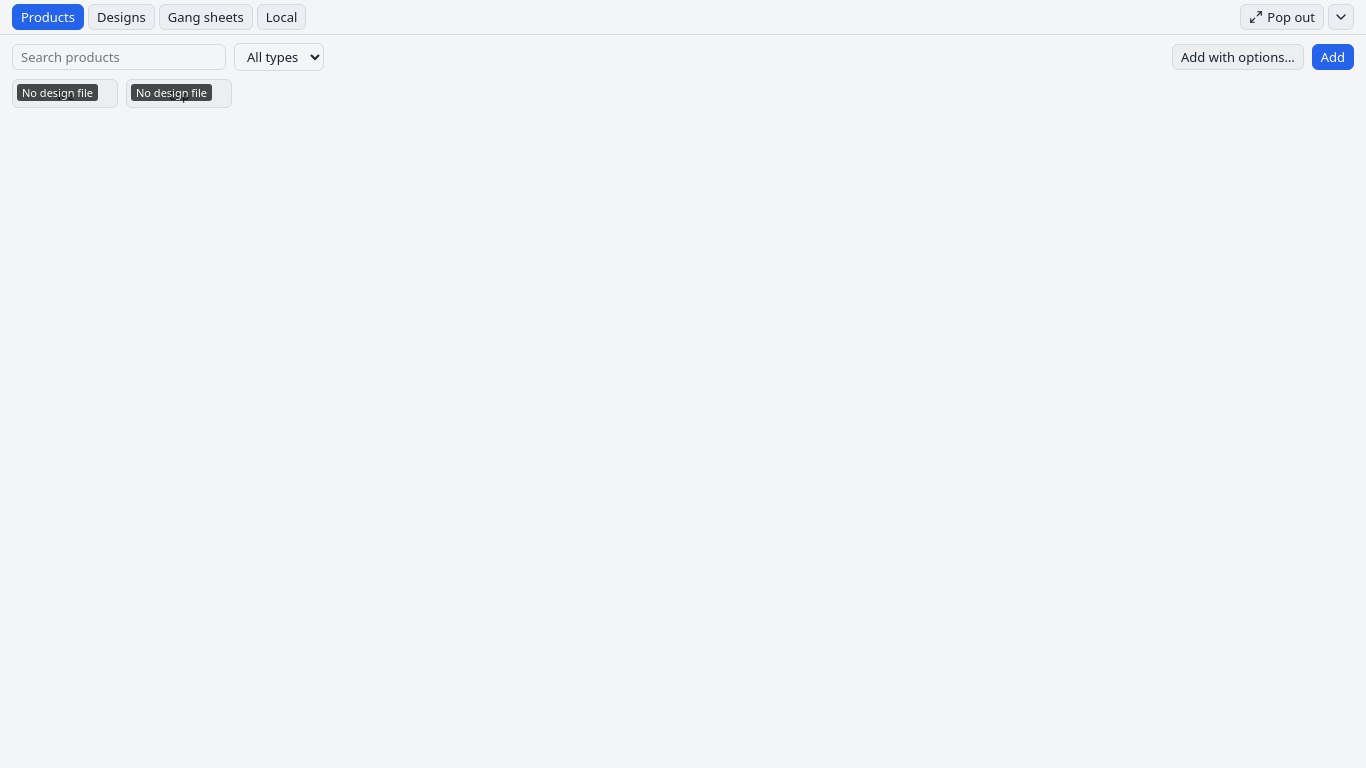
Test: LibraryBrowser › header checkbox selects every row on the page (list view)
Step 1. Click the button "Pop out" → [1282, 17], box [1240, 4, 1324, 30]
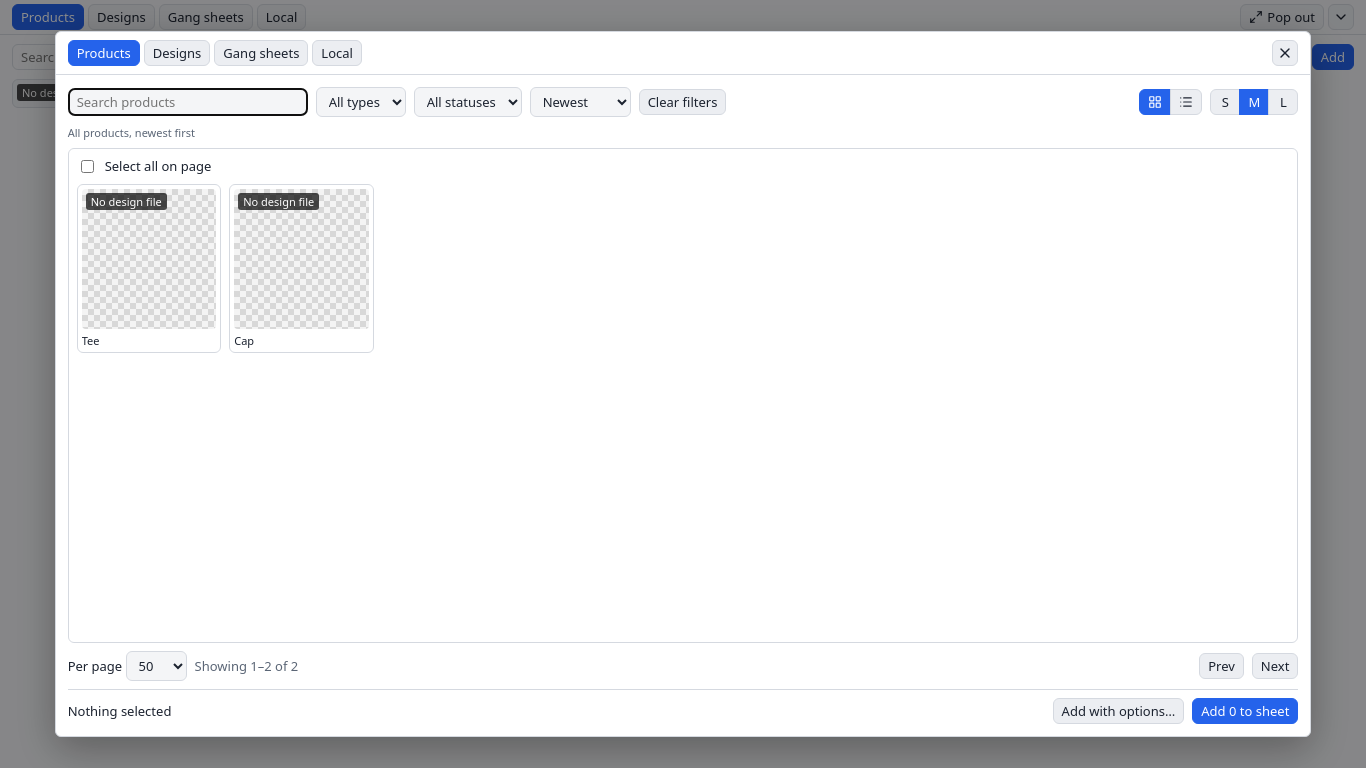
Step 2. Click the button named "List view" → [1186, 102], box [1170, 89, 1202, 115]
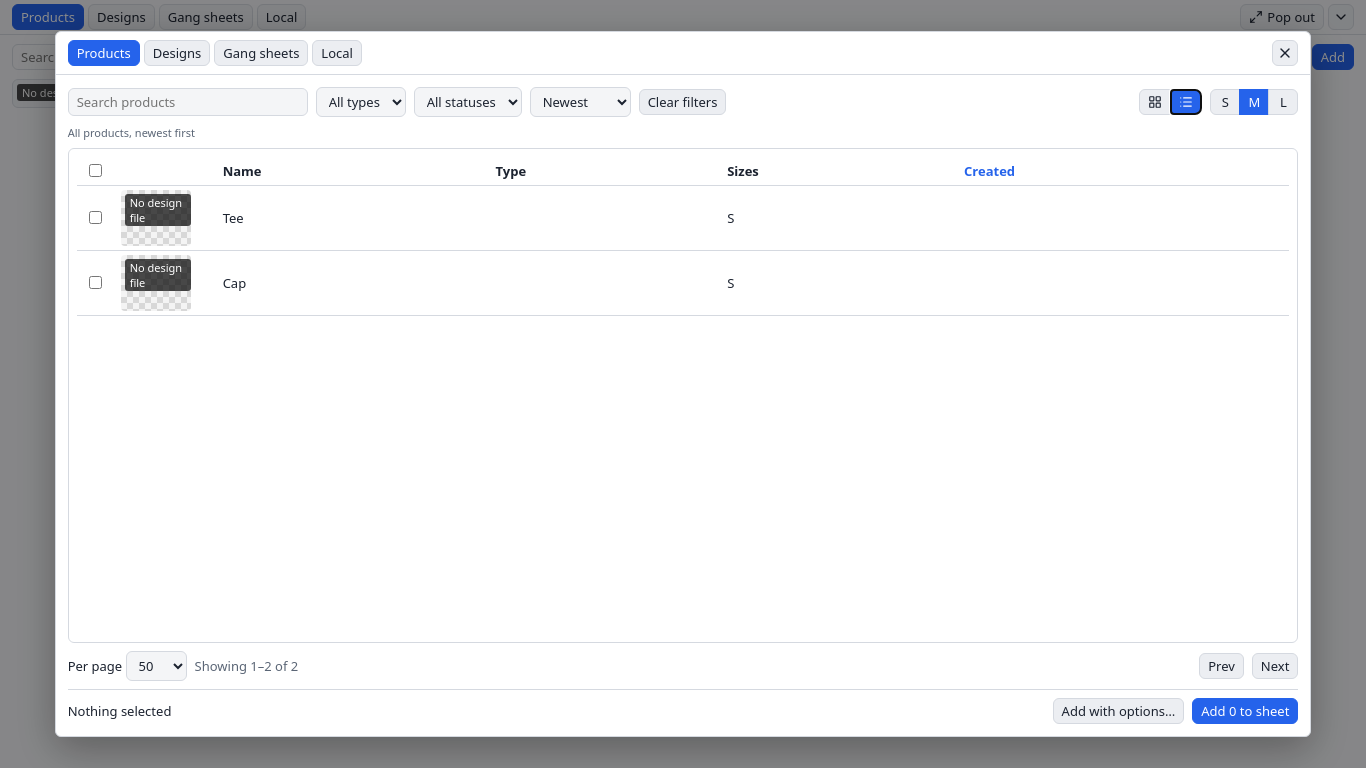
Result: the cell "Tee" is shown at [215, 185, 488, 251]
Step 3. Click the checkbox named "Select all on page" → [95, 170], box [89, 164, 102, 177]
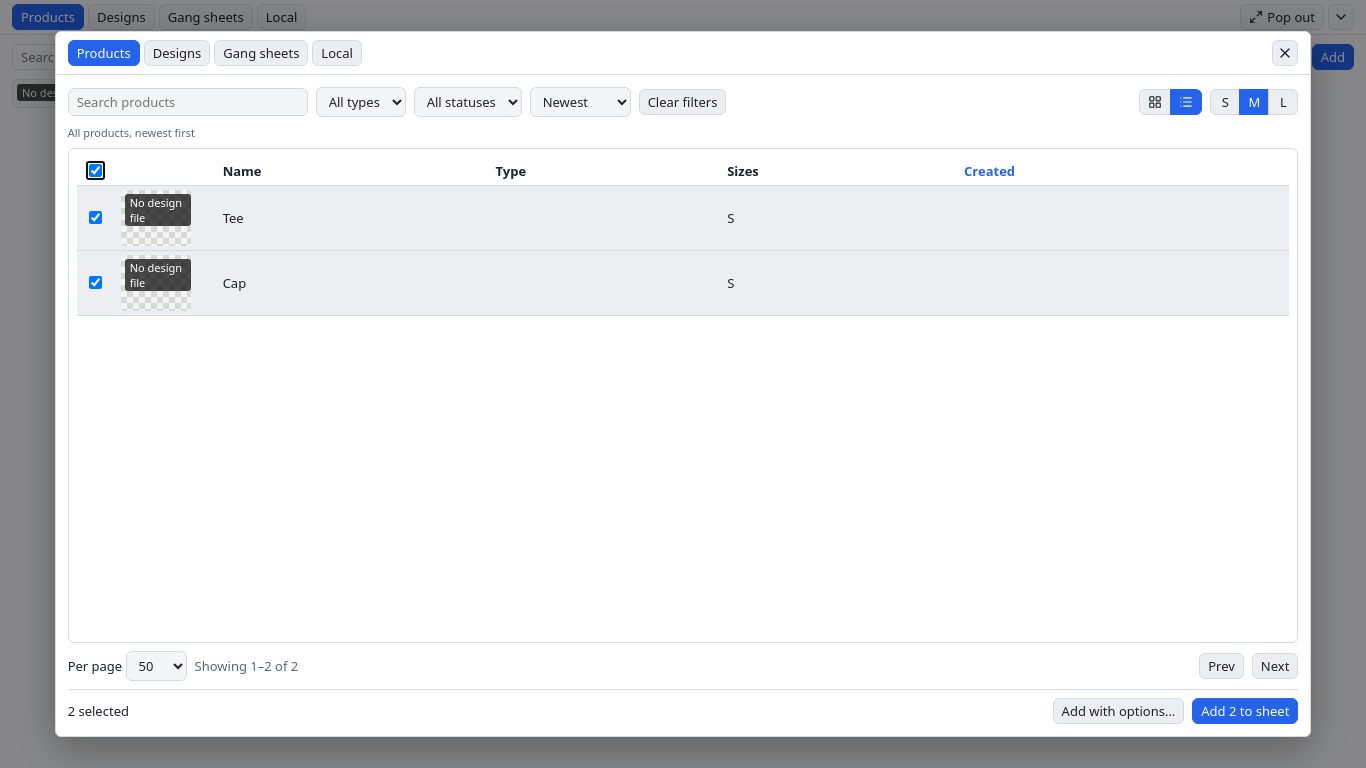
Result: the text "2 selected" is shown at [68, 702, 129, 720]
Result: the button "Add 2 to sheet" is enabled at [1192, 698, 1298, 724]
